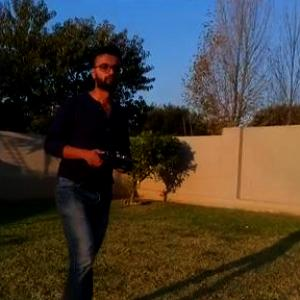follow: (30, 31, 133, 299)
